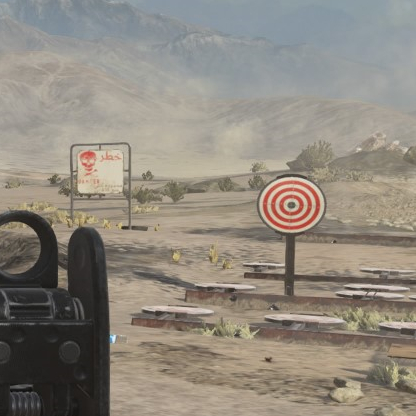target: (256, 175, 327, 235)
